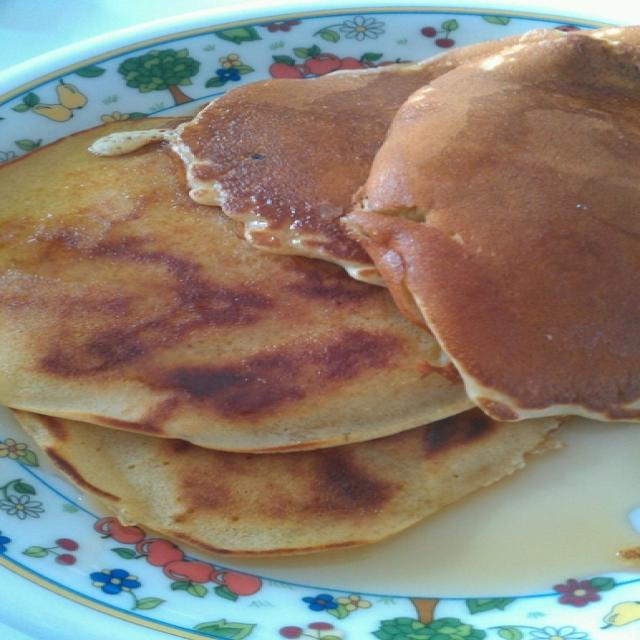蛋糕甜品: (10, 24, 618, 602)
